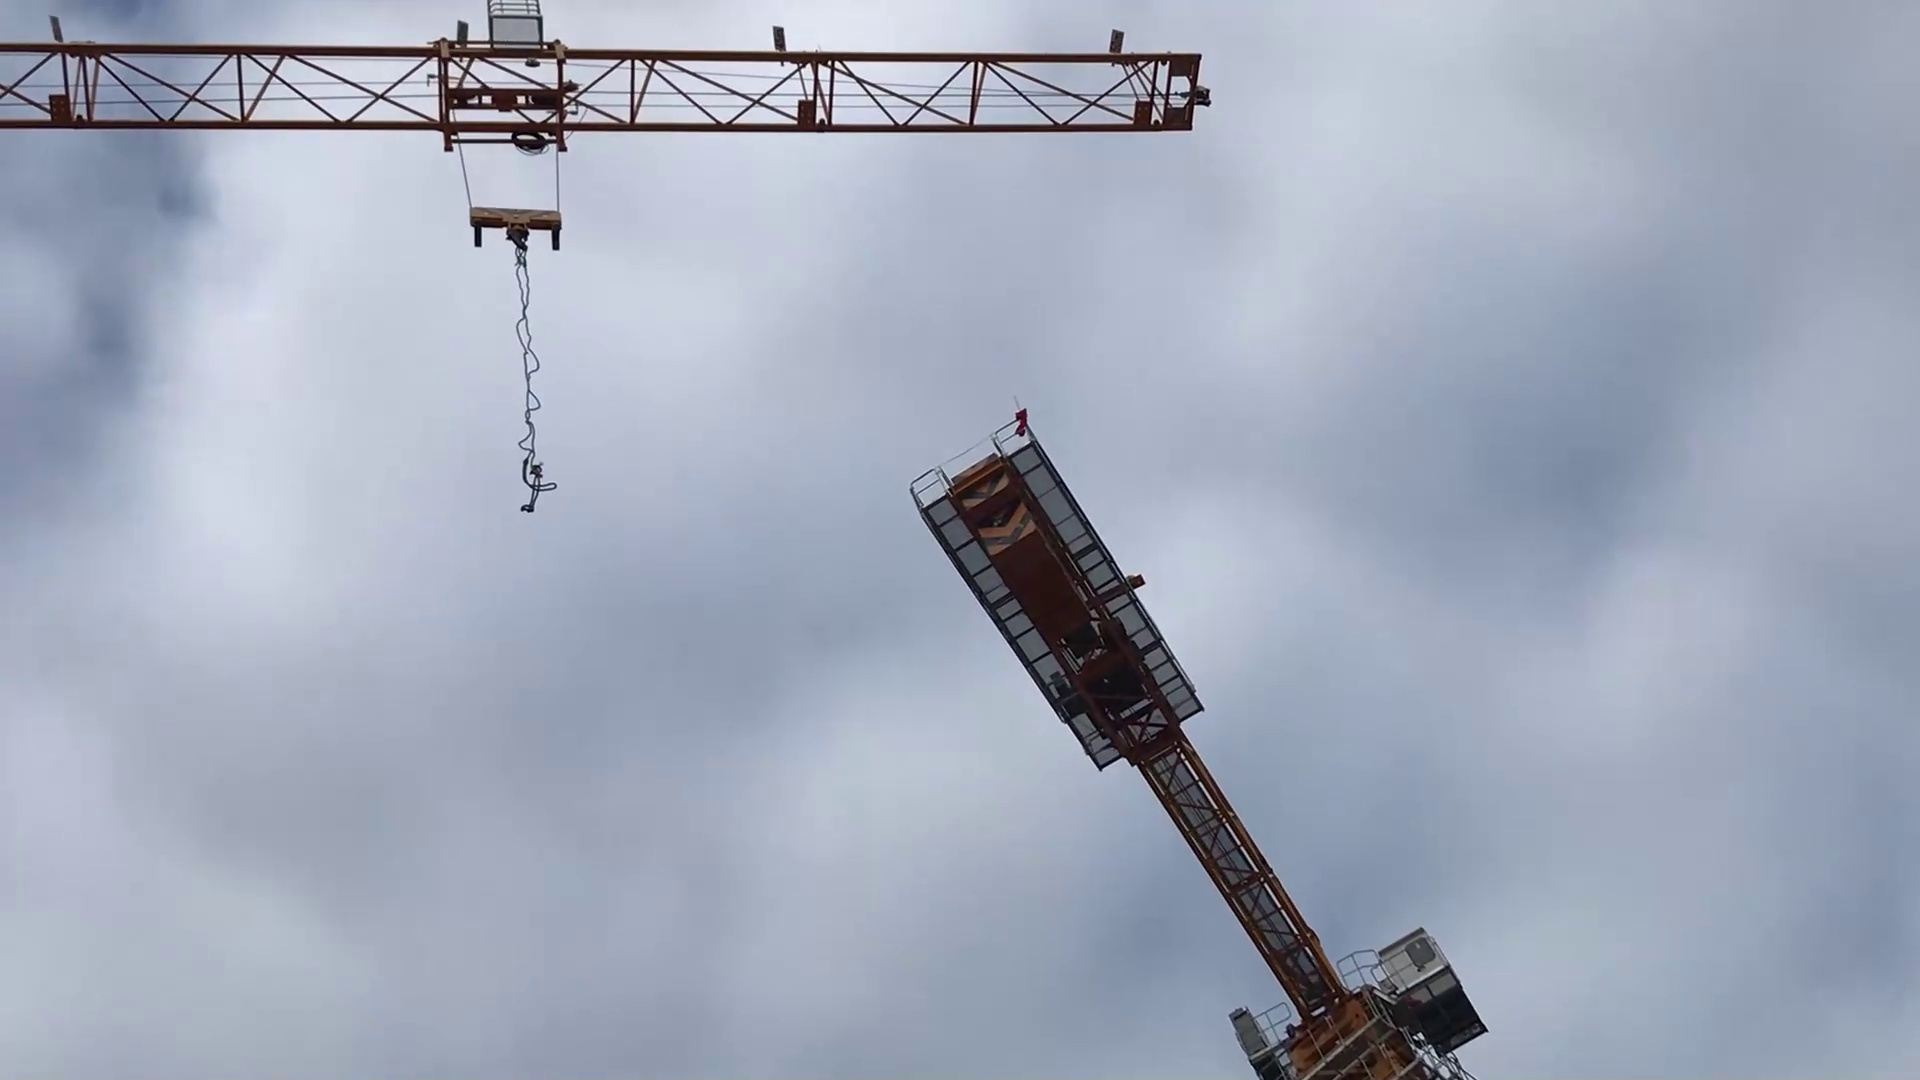hook: (460, 200, 575, 258)
